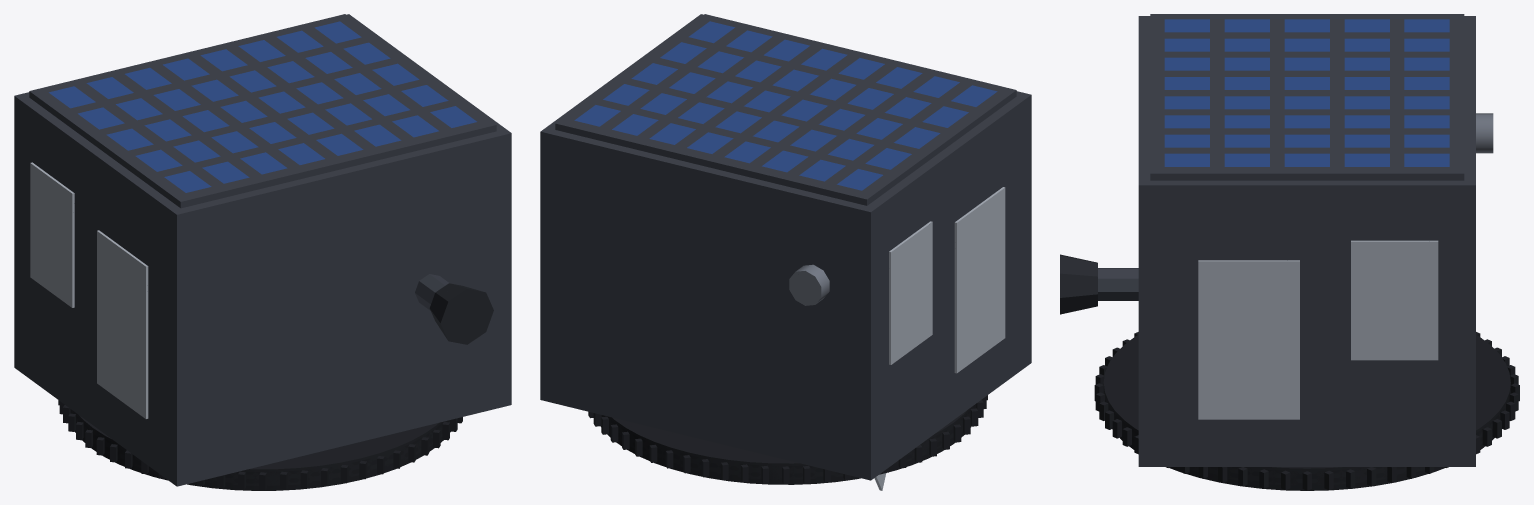
The model's file is proba-3-osc.glb.
3 views of the same model, side by side, from view 1: azimuth 30°, elevation 25°; view 2: azimuth 150°, elevation 25°; view 3: azimuth 270°, elevation 25° (orthographic). The views are drawn at different scales.
Parts seen in each view (by area): view 1: foil, body, solar-panel; view 2: foil, body, solar-panel; view 3: foil, body, solar-panel.
Part boxes in pixels (x1,y1,x2,y2): foil: (14, 14, 511, 486); body: (29, 14, 496, 490); solar-panel: (49, 21, 476, 192); foil: (540, 14, 1031, 480); body: (555, 14, 1016, 490); solar-panel: (574, 21, 997, 190); foil: (1138, 16, 1475, 466); body: (1060, 14, 1519, 490); solar-panel: (1164, 19, 1449, 166).
Bounding box in the file's own units: 1.46 × 1.34 × 1.58.
